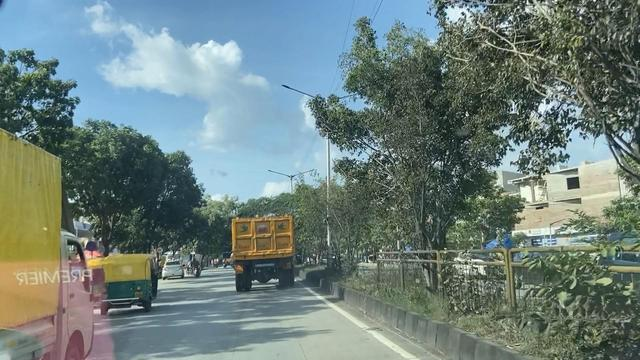HMV: (0, 126, 100, 360), (214, 211, 297, 279)
LMV: (107, 247, 160, 315)
